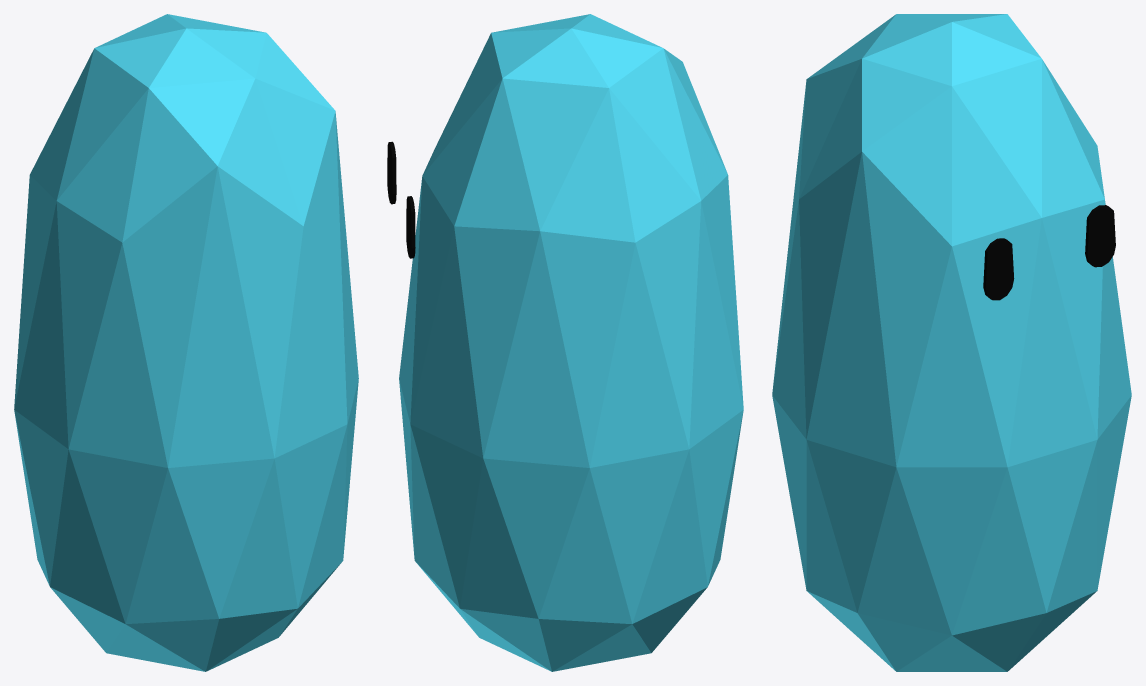
File: Kid.fbx
3 renders of one model, left to right at view 1: azimuth 30°, elevation 25°; view 2: azimuth 150°, elevation 25°; view 3: azimuth 270°, elevation 25°, orthographic. The views are drawn at different scales.
Visible parts, largest first — view 1: Icosphere; view 2: Icosphere, Circle, Circle.001; view 3: Icosphere, Circle, Circle.001.
Part boxes in pixels (bbox=[...]): Icosphere: bbox=[14, 14, 358, 671]; Icosphere: bbox=[399, 14, 743, 671]; Circle: bbox=[387, 141, 396, 204]; Circle.001: bbox=[406, 196, 415, 258]; Icosphere: bbox=[772, 14, 1131, 671]; Circle: bbox=[983, 238, 1014, 300]; Circle.001: bbox=[1085, 205, 1115, 267].
Bounding box in the file's own units: 1.09 × 2.04 × 1.06.
